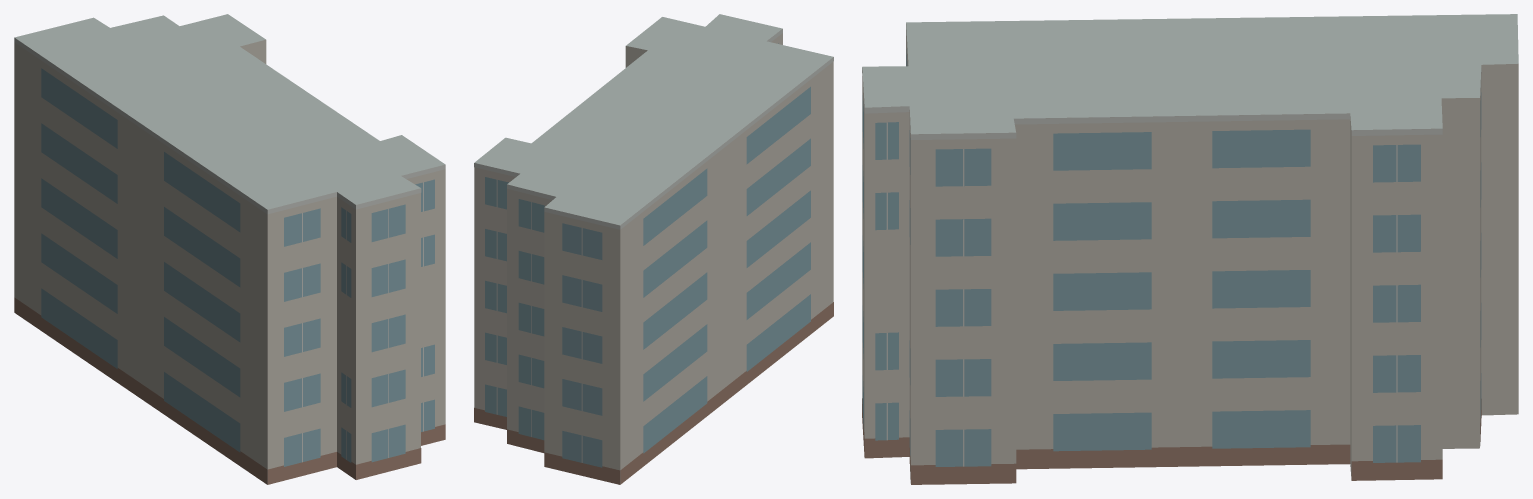
Rendered from survey-upis-32971244.glb.
3 renders of one model, left to right at view 1: azimuth 30°, elevation 25°; view 2: azimuth 150°, elevation 25°; view 3: azimuth 270°, elevation 25°, orthographic. The views are drawn at different scales.
Parts seen in each view (by area): view 1: survey-upis-32971244.tmp; view 2: survey-upis-32971244.tmp; view 3: survey-upis-32971244.tmp.
Part boxes in pixels (box(x1,y1,x2,y2)): survey-upis-32971244.tmp: box(14, 14, 445, 484); survey-upis-32971244.tmp: box(474, 14, 833, 484); survey-upis-32971244.tmp: box(862, 14, 1518, 484).
Bounding box in the file's own units: 10.67 × 14.5 × 24.61.
